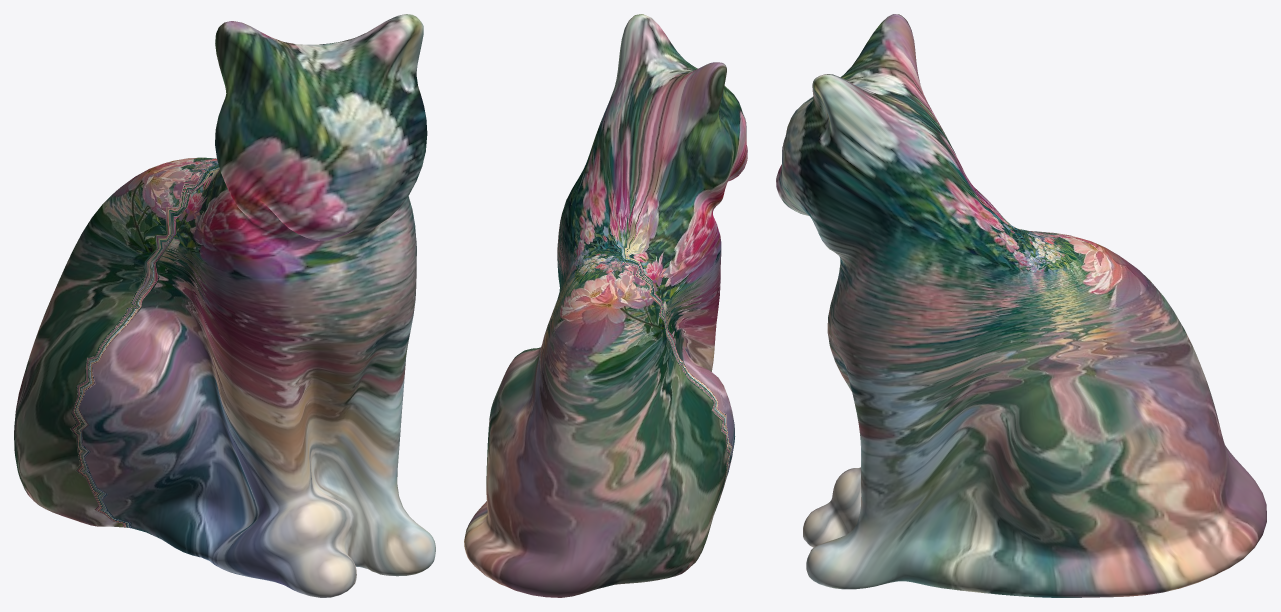
File: ph_concrete_cat_statue.glb
3 views of the same model, side by side, from view 1: azimuth 30°, elevation 25°; view 2: azimuth 150°, elevation 25°; view 3: azimuth 270°, elevation 25° (orthographic). The views are drawn at different scales.
Parts seen in each view (by area): view 1: A; view 2: A; view 3: A.
Boxes of the visible parts, x1,y1,x2,y2 form: A: (14,14,435,597); A: (464,14,747,597); A: (776,14,1266,597).
Size of the model in its own units: 1.08 by 2 by 1.77.
1 material, 1 textured.
